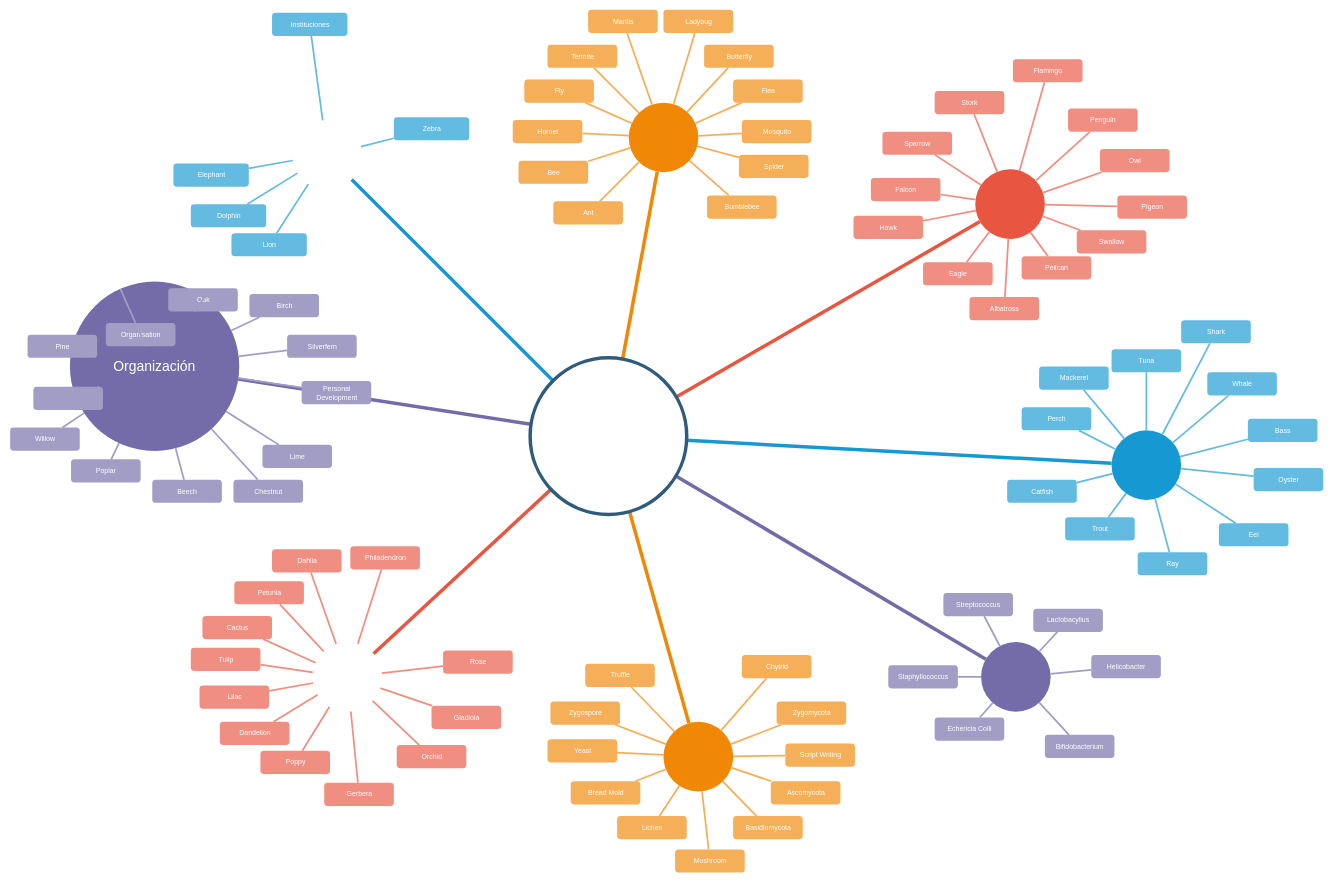
This 1333x883 diagram has some shape labels left out. The shapes that lost their labels are listed below. From the top down, each one's centre as x and y in pixels, then its label:
point 663,137: Insect
point 1010,204: Bird
point 68,398: Acacia
point 608,436: Grupo
point 1146,465: Fish
point 1015,676: Bacteria
point 698,756: Situación
